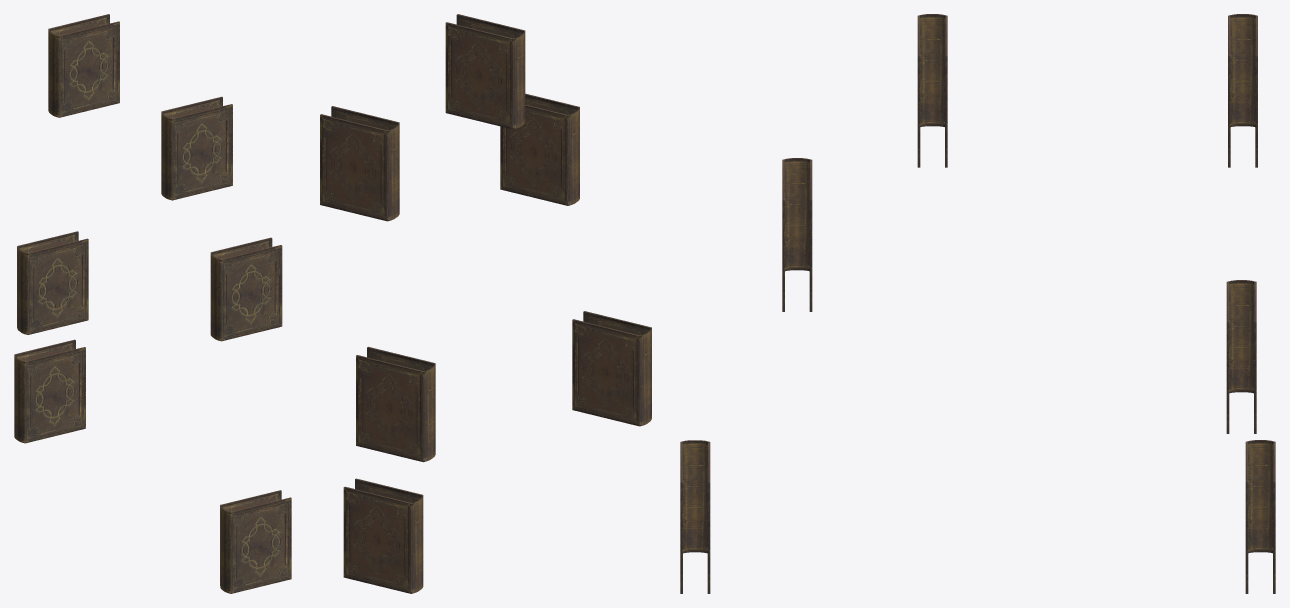
File: book001Scaffale.fbx
3 views of the same model, side by side, from view 1: azimuth 30°, elevation 25°; view 2: azimuth 150°, elevation 25°; view 3: azimuth 270°, elevation 25° (orthographic). The views are drawn at different scales.
Visible parts, largest first — view 1: Cube.056_book.001_0; view 2: Cube.056_book.001_0; view 3: Cube.056_book.001_0.
Part boxes in pixels (x1,y1,x2,y2): Cube.056_book.001_0: (14, 14, 291, 593); Cube.056_book.001_0: (320, 14, 651, 593); Cube.056_book.001_0: (680, 14, 1275, 593).
Size of the model in its own units: 42.86 by 174 by 169.
